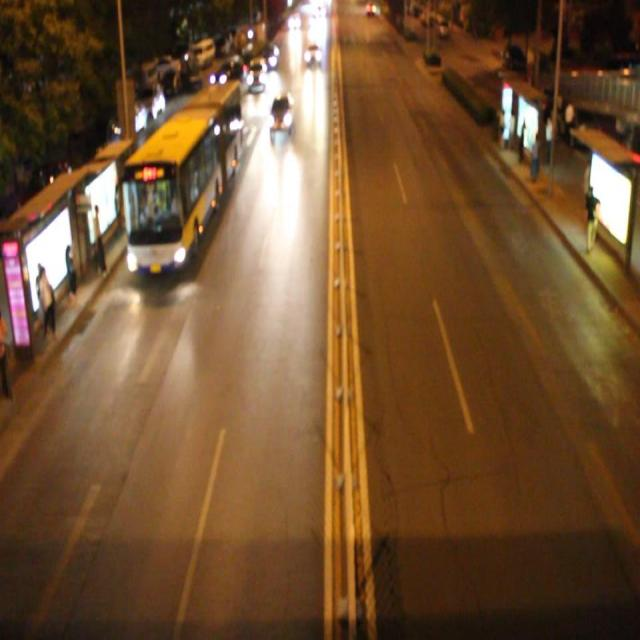car: (268, 92, 294, 133)
truck: (246, 57, 267, 89)
van: (126, 83, 241, 277)
